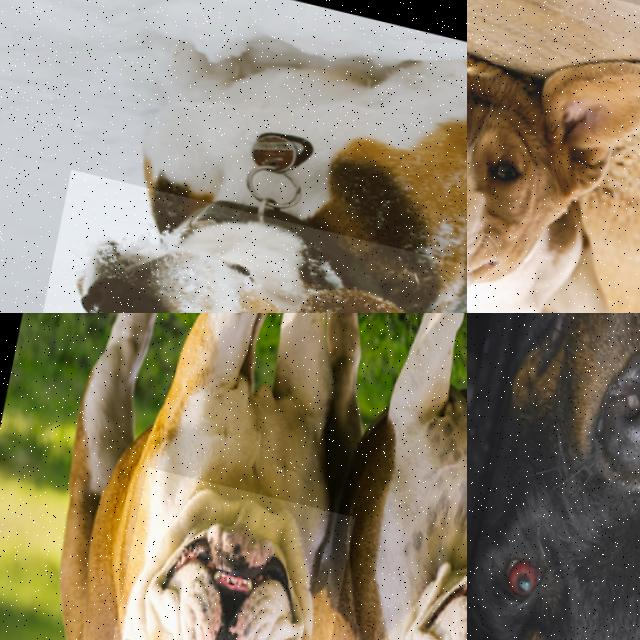beagle: (8, 166, 467, 313), (467, 0, 640, 313)
bulldog: (83, 465, 356, 640), (336, 496, 467, 640)
rottweiler: (467, 313, 640, 640)
